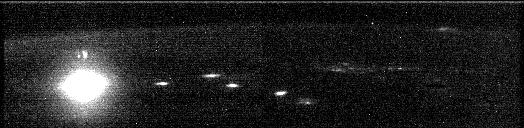positive: (74, 47, 92, 65)
